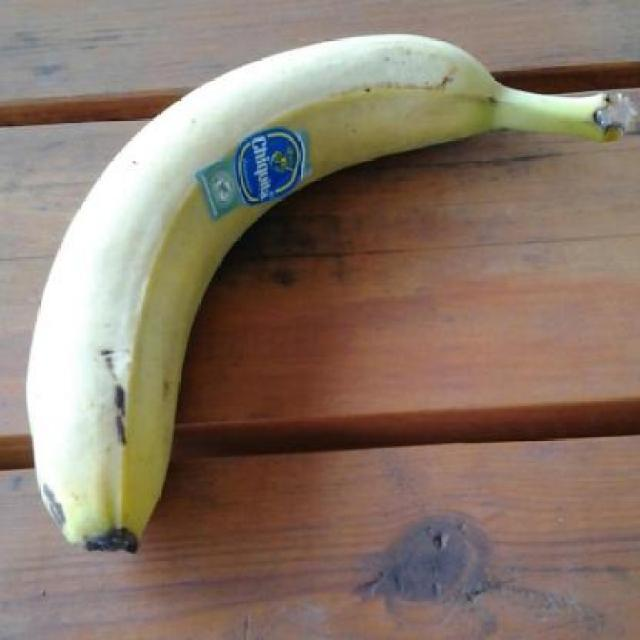Banana: (23, 32, 640, 560)
